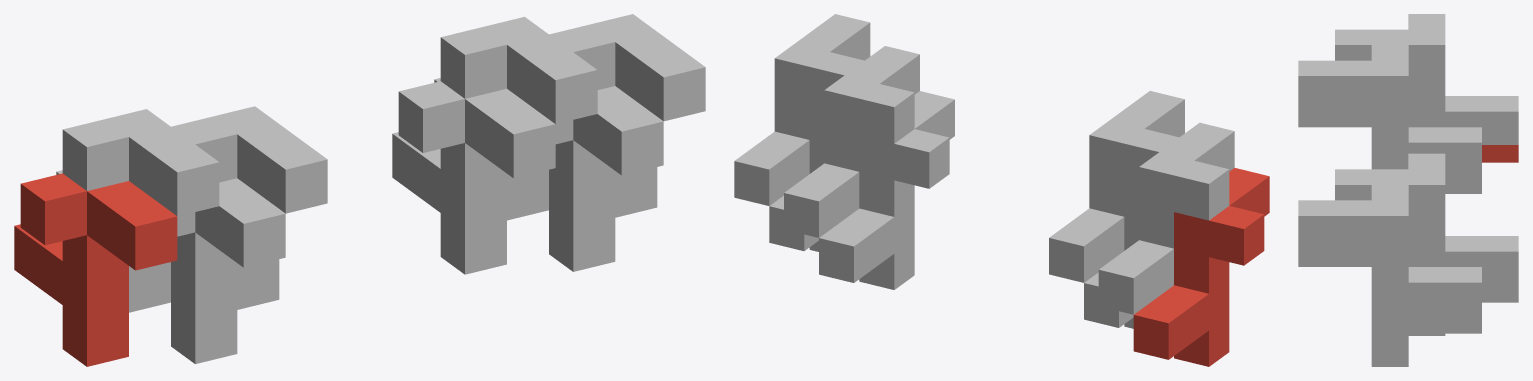
File: tiling.obj
3 renders of one model, left to right at view 1: azimuth 30°, elevation 25°; view 2: azimuth 150°, elevation 25°; view 3: azimuth 270°, elevation 25°, orthographic. The views are drawn at different scales.
Parts seen in each view (by area): view 1: copy_1_domain_5, copy_1_domain_1, copy_1_domain_6, copy_1_domain_2, copy_1_domain_3, copy_1_domain_7, copy_1_domain_4, copy_1_domain_8; view 2: copy_1_domain_1, copy_1_domain_5, copy_1_domain_7, copy_1_domain_3, copy_1_domain_8, copy_1_domain_4, copy_1_domain_6, copy_1_domain_2; view 3: copy_1_domain_8, copy_1_domain_4, copy_1_domain_3, copy_1_domain_7, copy_1_domain_6, copy_1_domain_2, copy_1_domain_5, copy_1_domain_1.
Part boxes in pixels (x1,y1,x2,y2): copy_1_domain_5: [392, 81, 555, 274]; copy_1_domain_1: [14, 173, 177, 366]; copy_1_domain_6: [549, 86, 663, 271]; copy_1_domain_2: [171, 178, 285, 364]; copy_1_domain_3: [56, 109, 219, 312]; copy_1_domain_7: [434, 16, 597, 220]; copy_1_domain_4: [171, 106, 327, 309]; copy_1_domain_8: [549, 14, 705, 217]; copy_1_domain_1: [1133, 168, 1269, 366]; copy_1_domain_5: [819, 91, 954, 289]; copy_1_domain_7: [784, 46, 919, 237]; copy_1_domain_3: [1098, 122, 1234, 314]; copy_1_domain_8: [734, 14, 870, 205]; copy_1_domain_4: [1049, 91, 1184, 282]; copy_1_domain_6: [769, 103, 824, 251]; copy_1_domain_2: [1084, 180, 1138, 328]; copy_1_domain_8: [1298, 185, 1481, 349]; copy_1_domain_4: [1298, 45, 1481, 175]; copy_1_domain_3: [1335, 14, 1518, 144]; copy_1_domain_7: [1335, 153, 1518, 284]; copy_1_domain_6: [1298, 249, 1481, 366]; copy_1_domain_2: [1298, 109, 1481, 193]; copy_1_domain_5: [1408, 285, 1518, 335]; copy_1_domain_1: [1482, 145, 1518, 162].
Size of the model in its own units: 14 by 5 by 6.
